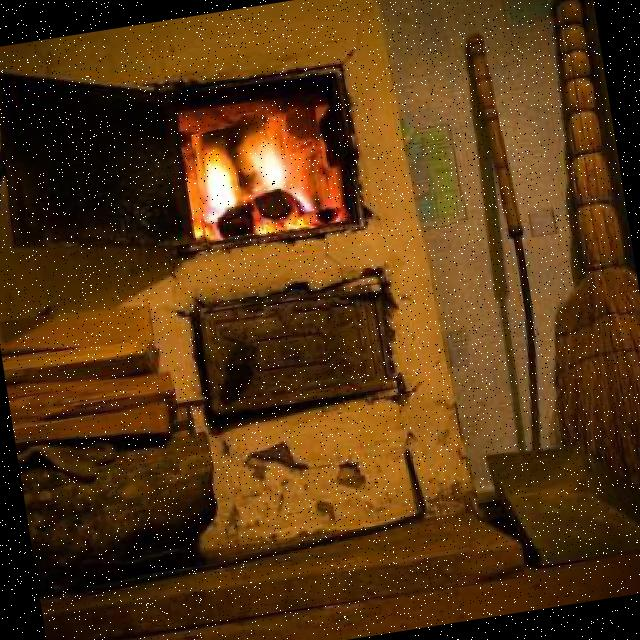fire: (190, 116, 328, 246)
